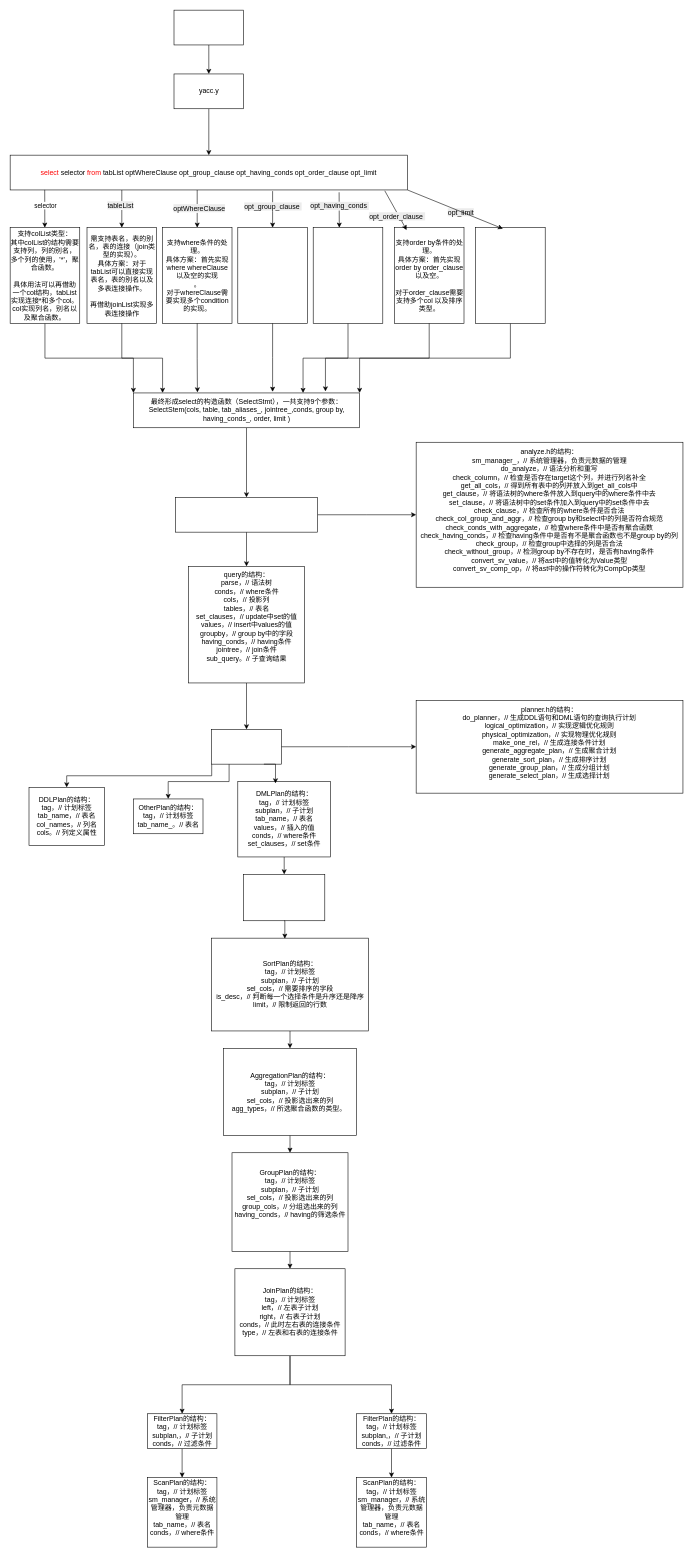
The diagram is 693 pixels wide and 1557 high, and some of its shapes have lost their labels. The shapes that lost their labels are listed below. From the top down, each one's centre as x and y in pixels, then its label:
(x=208, y=27): parser
(x=272, y=275): 支持group by条件的处理。 具体方案：首先实现group by group_clause以及空。 对于group_clause需要支持多个col类型。
(x=348, y=275): 支持having条件的处理。 具体方案：首先实现having having_conds以及空。 对于having_conds需要支持多个condtion类型。
(x=510, y=275): 支持limit的语法，后面值可以接值，表示选出表的行数。
(x=246, y=514): 紧接着进行语义分析和重写，生成query计划。这里我们就需要去完善query计划
(x=246, y=746): 查询优化并生成查询计划树plan，我们分析一下plan是如何进行构建的
(x=284, y=897): ProjectionPlan的结构： tag，// 计划标签 subplan，// 子计划 sel_cols，// 投影列
